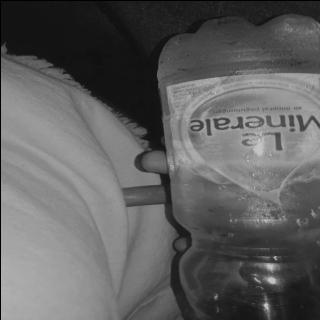plastic_bottles: (153, 15, 320, 320)
